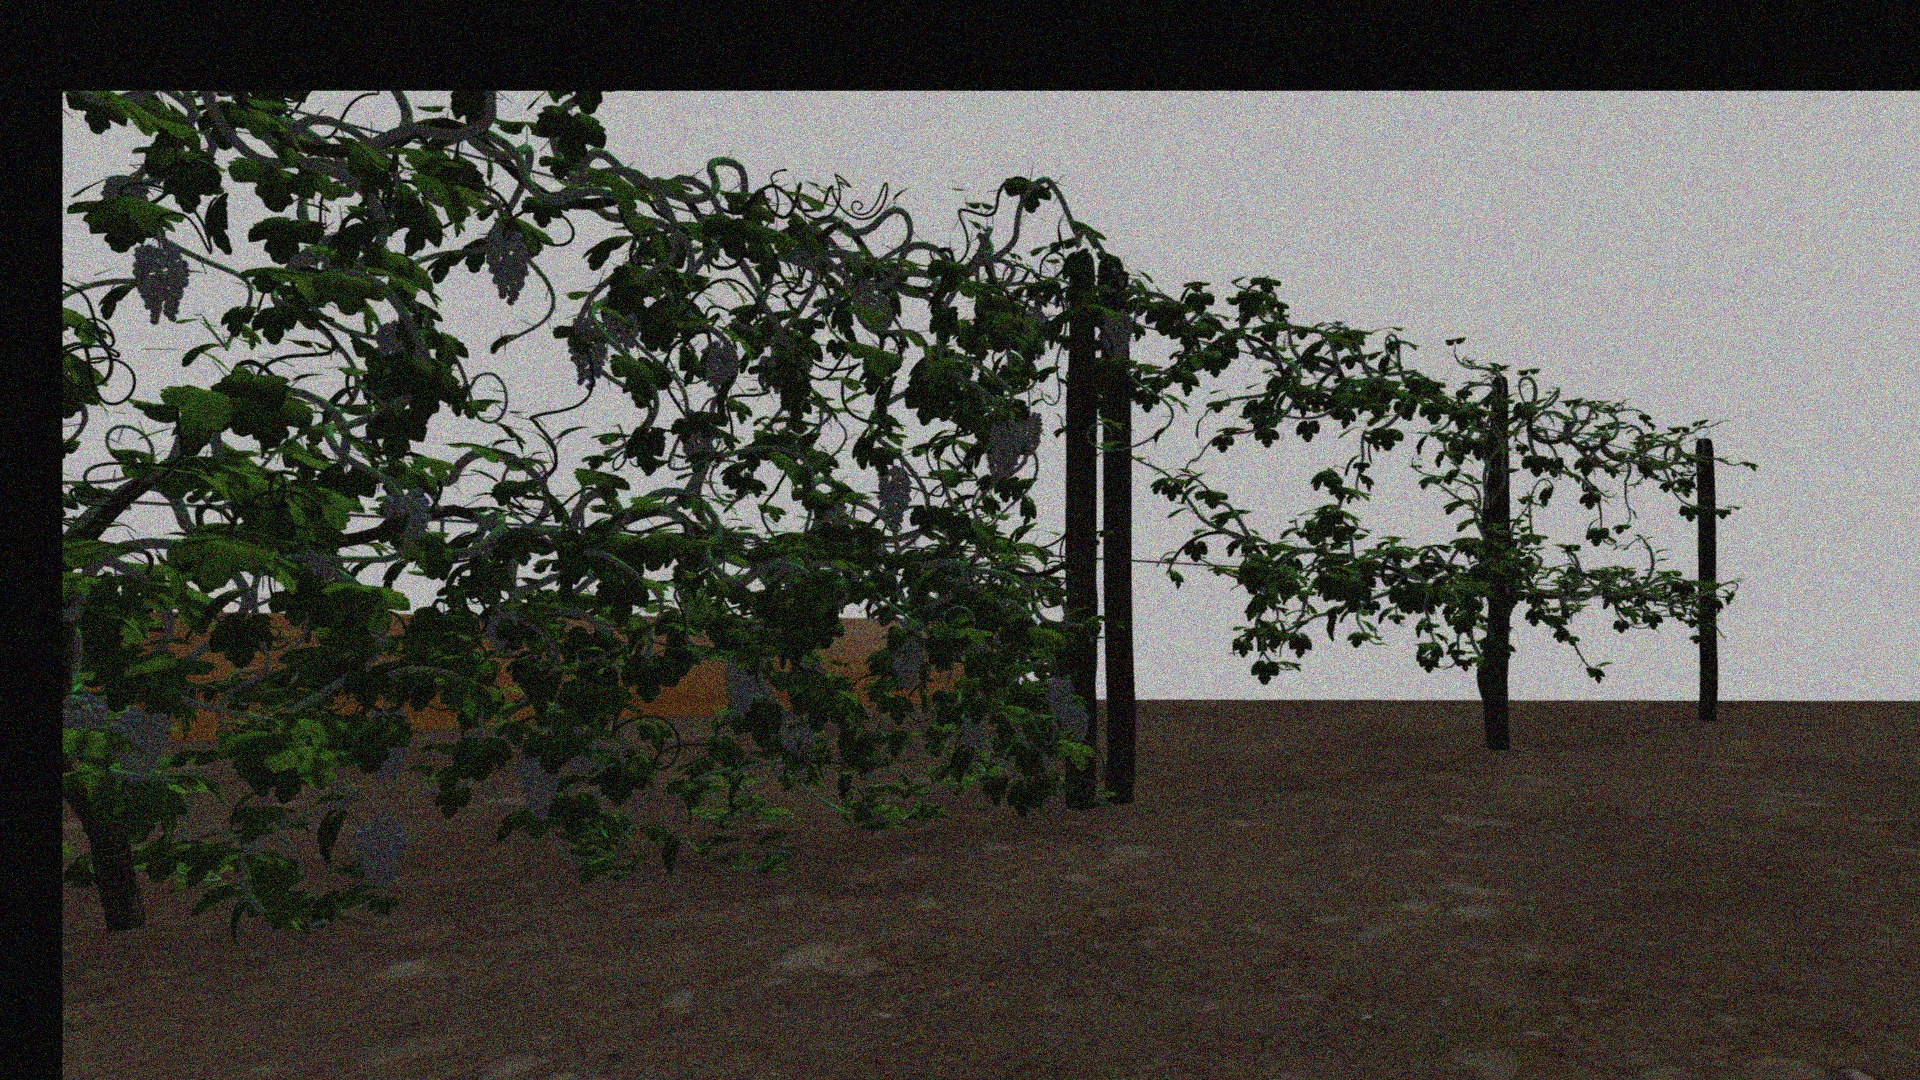grape: (108, 705, 170, 785), (131, 243, 189, 324), (485, 222, 530, 303), (352, 819, 404, 890), (380, 485, 431, 556), (514, 752, 560, 823), (567, 318, 607, 388), (982, 419, 1025, 483), (723, 661, 760, 725), (878, 467, 914, 527), (890, 636, 924, 692), (959, 709, 992, 760), (702, 342, 735, 392), (1100, 313, 1134, 359), (777, 721, 818, 756), (1058, 702, 1089, 742), (1040, 676, 1072, 715), (1015, 411, 1043, 454)
